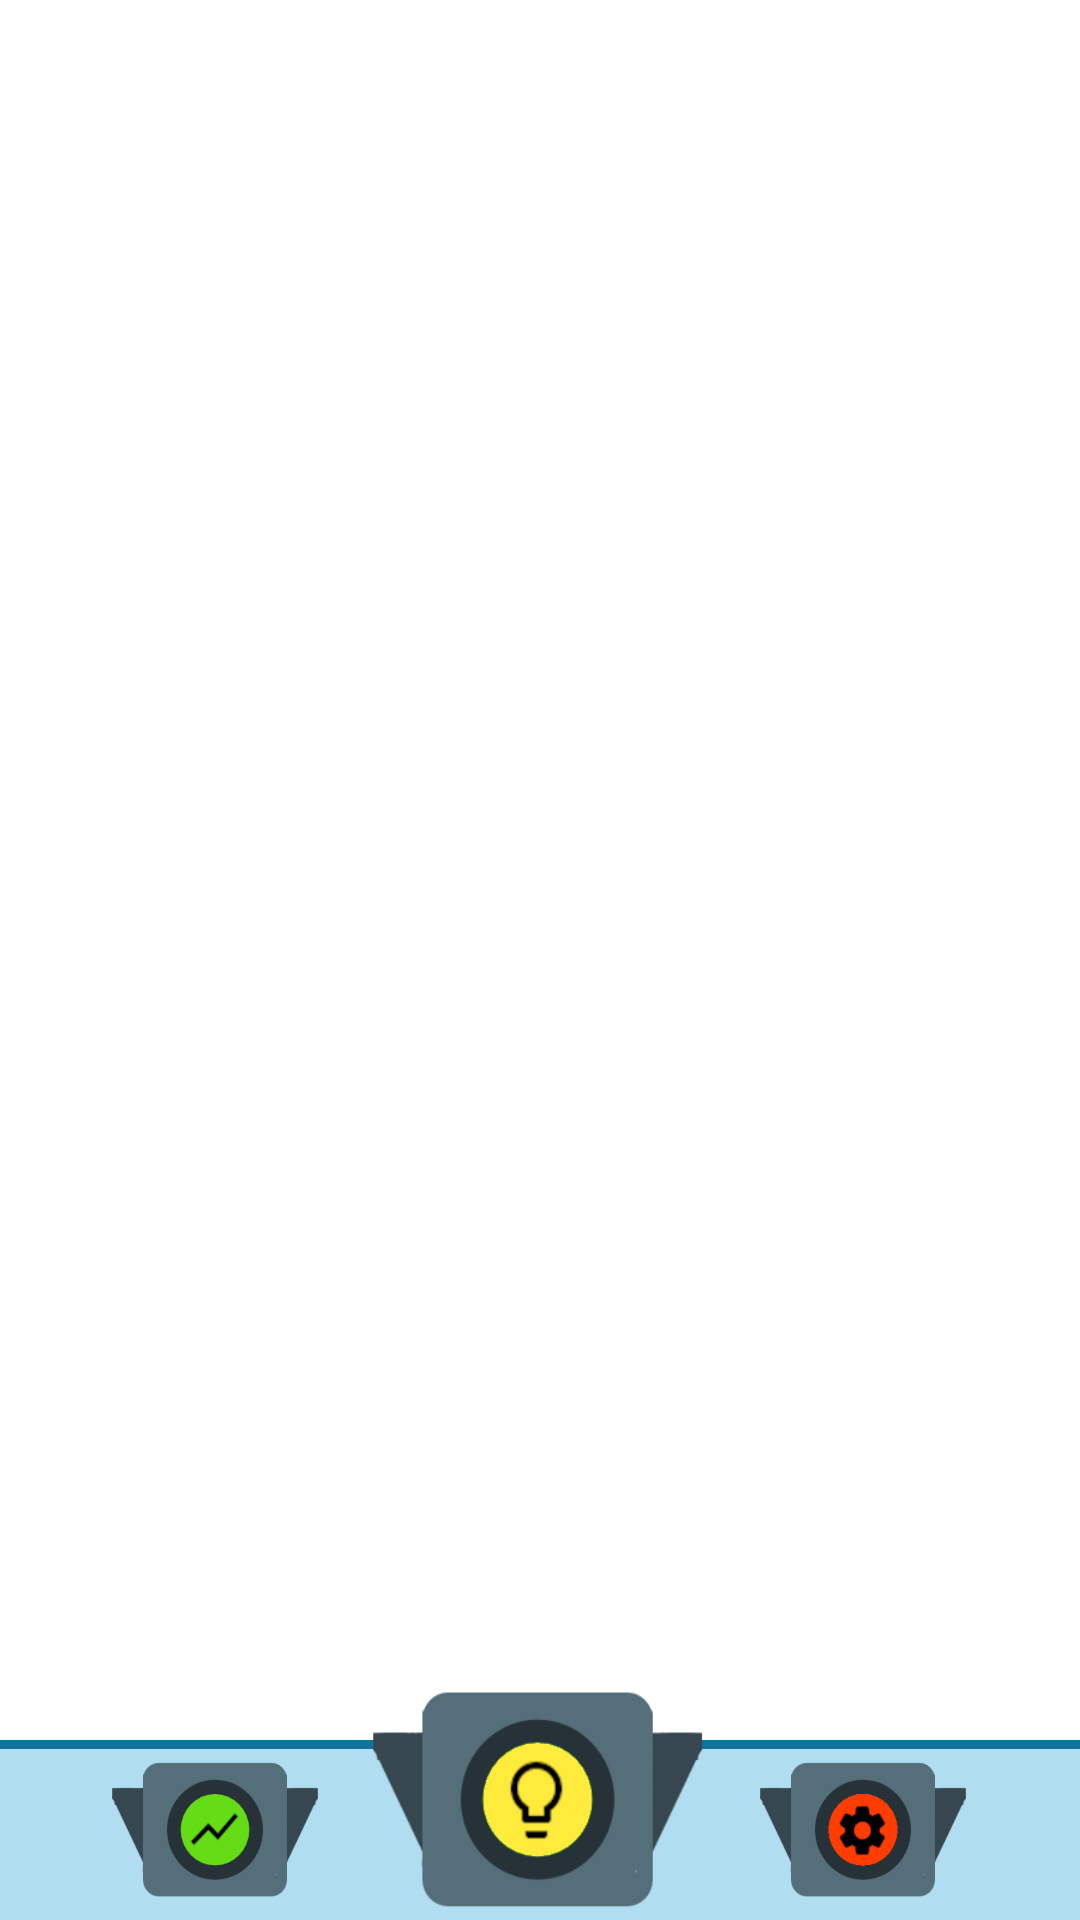

Icons on this 1080×1920 Android screen, each with the point to tap as [x,y]:
amarillo: [540,1800]
rojo: [863,1830]
verde: [215,1830]
